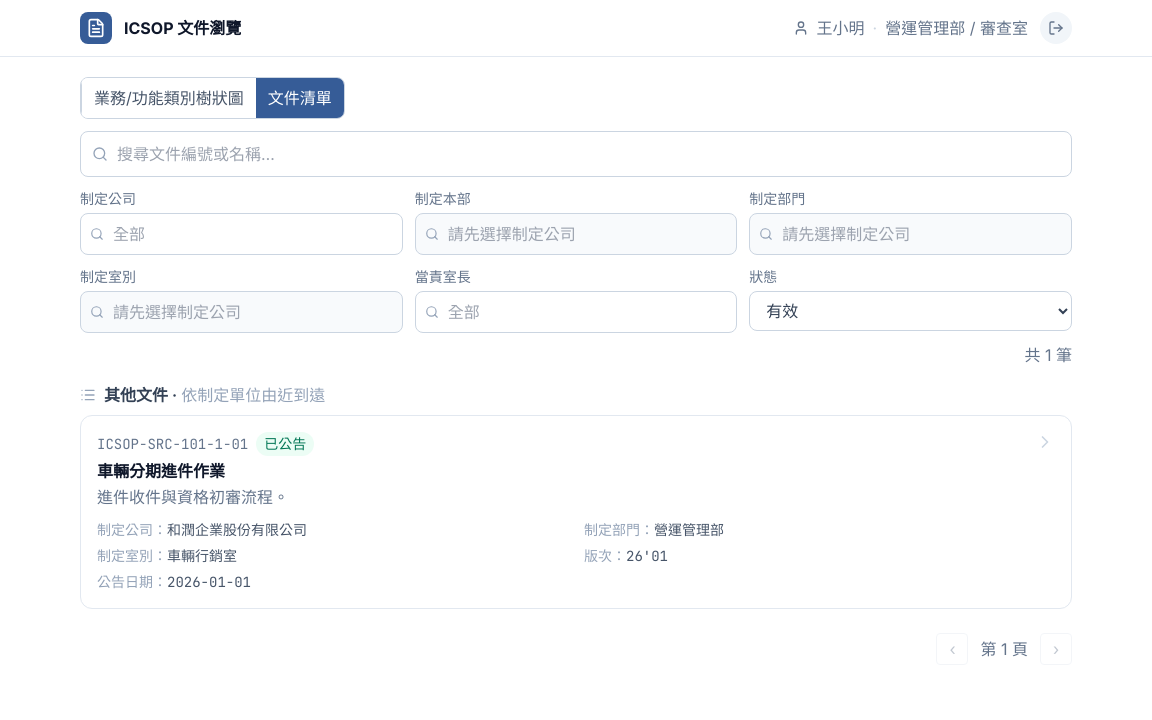
Test: PublicListPage（F019 前台清單） › TS-F019-028 清除篩選 → 重置關鍵字並重新查詢完整清單
Expected: the heading "車輛分期進件作業" is shown, [97,461,225,481]
Type "消費" into the search field labelled "搜尋文件編號或名稱".
click(576, 154); type("消費")  # box [80,131,1072,177]
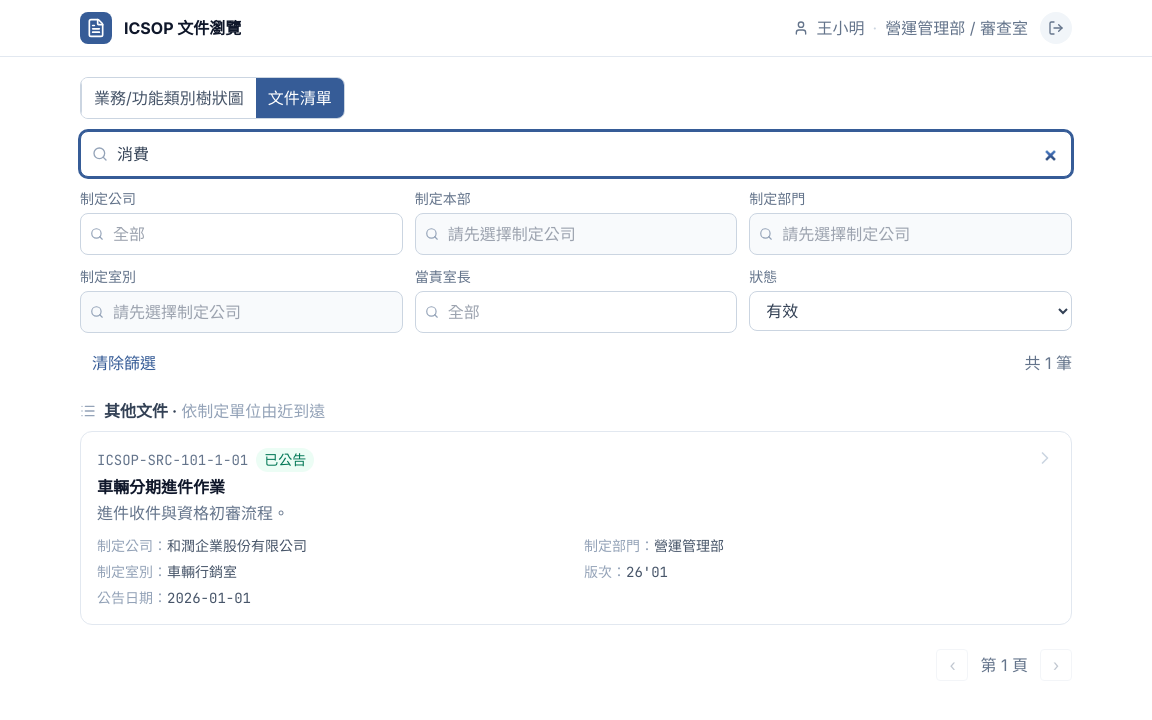
Click the button "清除篩選".
click(124, 363)  # box [80,343,168,383]
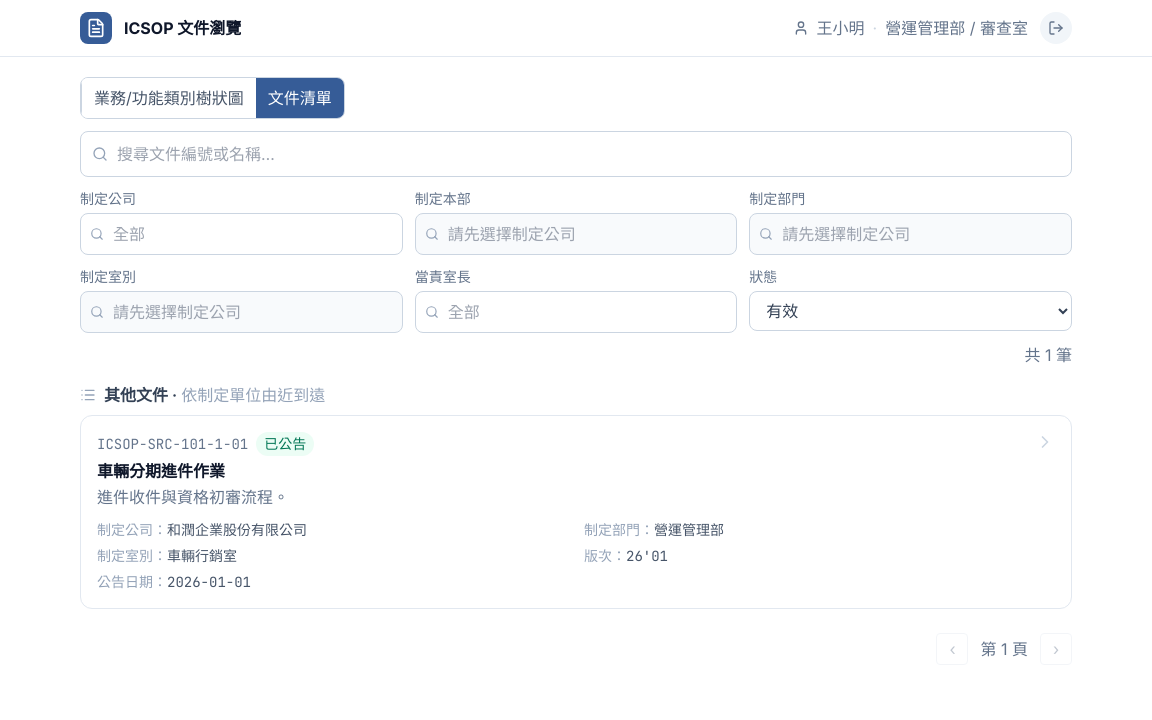
Result: the search field labelled "搜尋文件編號或名稱" is empty at [80,131,1072,177]
